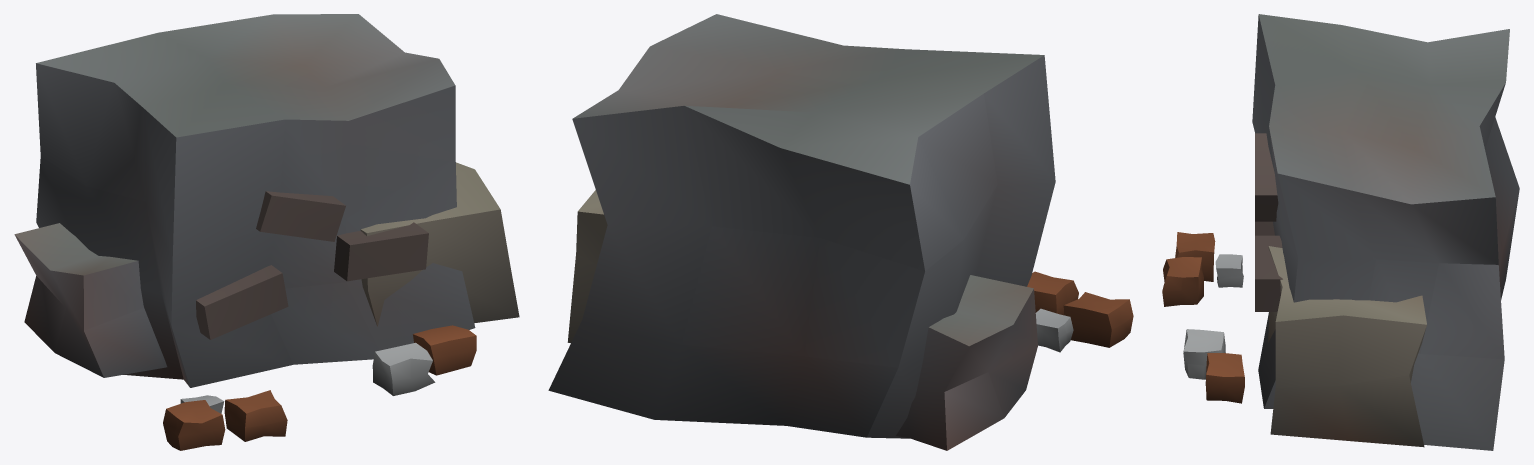
The model's file is ph_env_ore_vein_empty.glb.
3 renders of one model, left to right at view 1: azimuth 30°, elevation 25°; view 2: azimuth 150°, elevation 25°; view 3: azimuth 270°, elevation 25°, orthographic. The views are drawn at different scales.
Visible parts, largest first — view 1: ph_env_ore_vein_empty; view 2: ph_env_ore_vein_empty; view 3: ph_env_ore_vein_empty.
Boxes of the visible parts, left/top/right/bottom form: ph_env_ore_vein_empty: left=14, top=14, right=519, bottom=450; ph_env_ore_vein_empty: left=548, top=14, right=1133, bottom=450; ph_env_ore_vein_empty: left=1162, top=14, right=1519, bottom=450.
Bounding box in the file's own units: 1.41 × 1.02 × 1.15.
